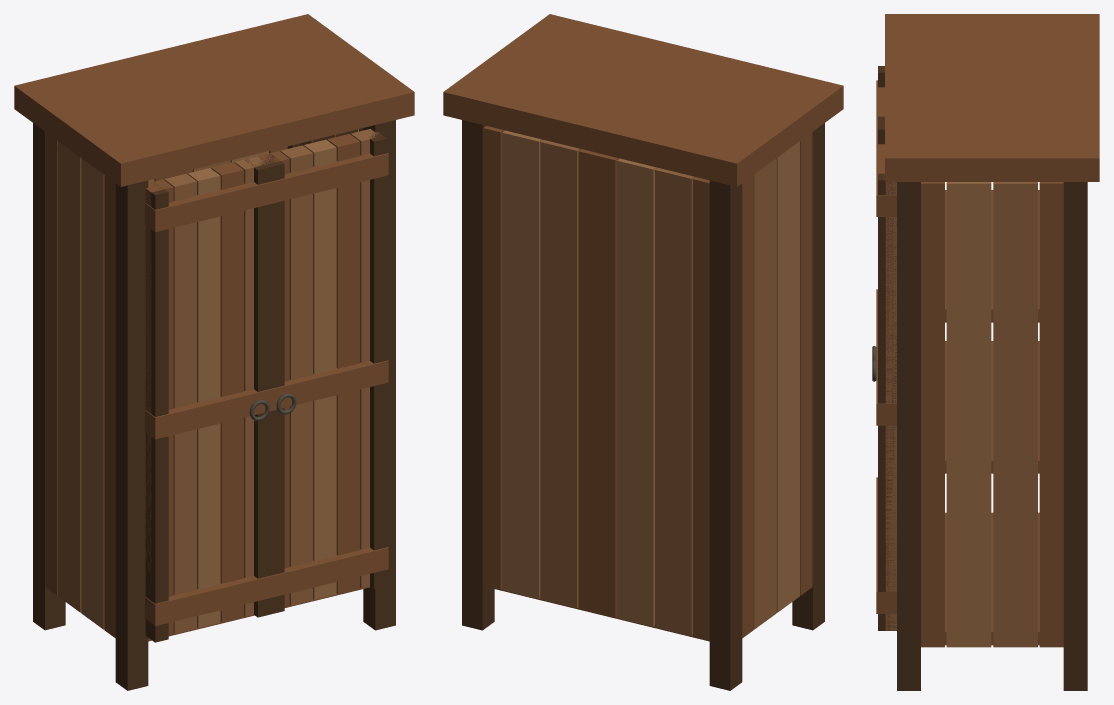
The picture shows the model from 3 angles, left to right: view 1: azimuth 30°, elevation 25°; view 2: azimuth 150°, elevation 25°; view 3: azimuth 270°, elevation 25°; orthographic projection.
Visible parts, largest first — view 1: LV_TU_GO_01-surface-825331, LV_TU_GO_01-surface-50351f, cabinet-left-door-surface-825331, cabinet-right-door-surface-825331, cabinet-left-door-surface-50351f, cabinet-left-door-surface-936540, cabinet-right-door-surface-936540, cabinet-right-door-surface-50351f, LV_TU_GO_01-surface-9d7048, LV_TU_GO_01-surface-936540, cabinet-left-door-surface-9d7048, cabinet-right-door-surface-9d7048; view 2: LV_TU_GO_01-surface-825331, LV_TU_GO_01-surface-9d7048, LV_TU_GO_01-surface-936540, LV_TU_GO_01-surface-50351f; view 3: LV_TU_GO_01-surface-825331, LV_TU_GO_01-surface-50351f, LV_TU_GO_01-surface-9d7048, LV_TU_GO_01-surface-936540, cabinet-right-door-surface-50351f, cabinet-right-door-surface-936540, cabinet-right-door-surface-825331, cabinet-left-door-surface-825331.
Boxes of the visible parts, x1,y1,x2,y2 form: LV_TU_GO_01-surface-825331: (14, 14, 414, 641); LV_TU_GO_01-surface-50351f: (33, 120, 395, 690); cabinet-left-door-surface-825331: (145, 162, 272, 635); cabinet-right-door-surface-825331: (257, 134, 388, 606); cabinet-left-door-surface-50351f: (145, 159, 271, 642); cabinet-left-door-surface-936540: (164, 156, 265, 633); cabinet-right-door-surface-936540: (280, 129, 378, 605); cabinet-right-door-surface-50351f: (260, 132, 387, 614); LV_TU_GO_01-surface-9d7048: (81, 129, 358, 629); LV_TU_GO_01-surface-936540: (58, 134, 335, 612); cabinet-left-door-surface-9d7048: (187, 168, 220, 628); cabinet-right-door-surface-9d7048: (304, 139, 336, 599); LV_TU_GO_01-surface-825331: (443, 14, 843, 641); LV_TU_GO_01-surface-9d7048: (502, 130, 799, 626); LV_TU_GO_01-surface-936540: (540, 140, 776, 636); LV_TU_GO_01-surface-50351f: (462, 120, 824, 690); LV_TU_GO_01-surface-825331: (885, 14, 1099, 647); LV_TU_GO_01-surface-50351f: (897, 182, 1087, 690); LV_TU_GO_01-surface-9d7048: (946, 182, 991, 647); LV_TU_GO_01-surface-936540: (993, 182, 1037, 647); cabinet-right-door-surface-50351f: (878, 123, 896, 630); cabinet-right-door-surface-936540: (885, 182, 896, 630); cabinet-right-door-surface-825331: (876, 137, 896, 613); cabinet-left-door-surface-825331: (876, 80, 884, 534).
Size of the model in its own units: 1.21 by 2.1 by 0.8049.
